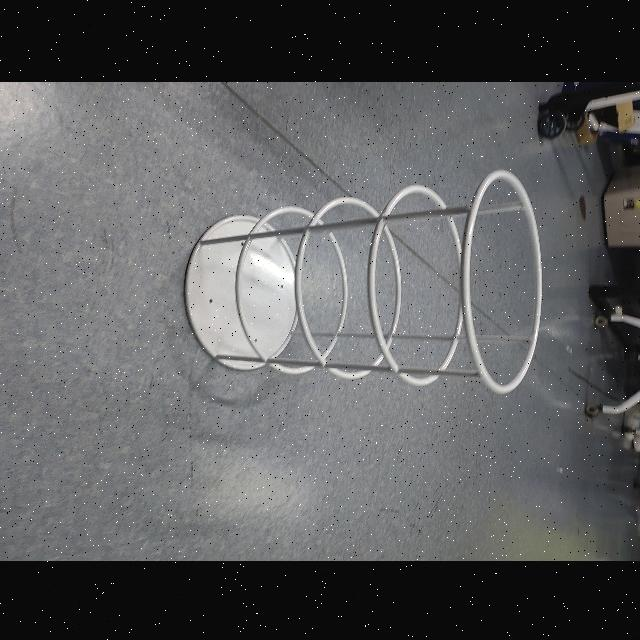S: (180, 164, 546, 396)
